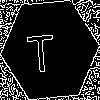T: (25, 25, 56, 74)
